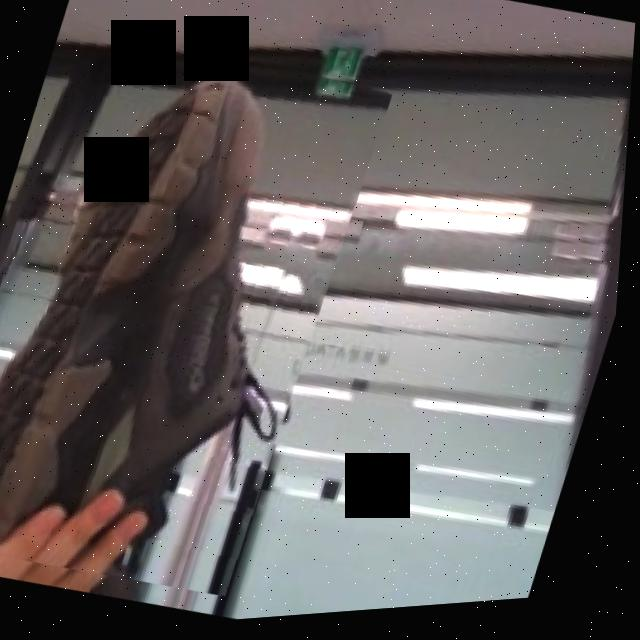shoe: (0, 0, 403, 618)
